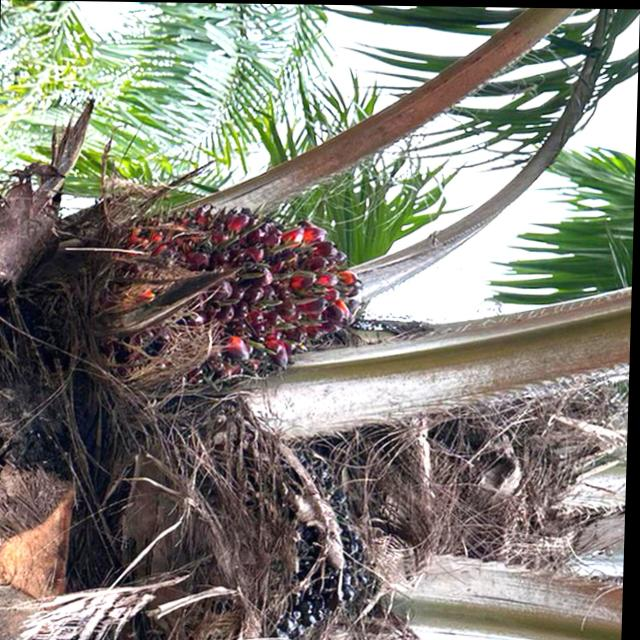ripe: (128, 391, 369, 640), (117, 193, 372, 376)
